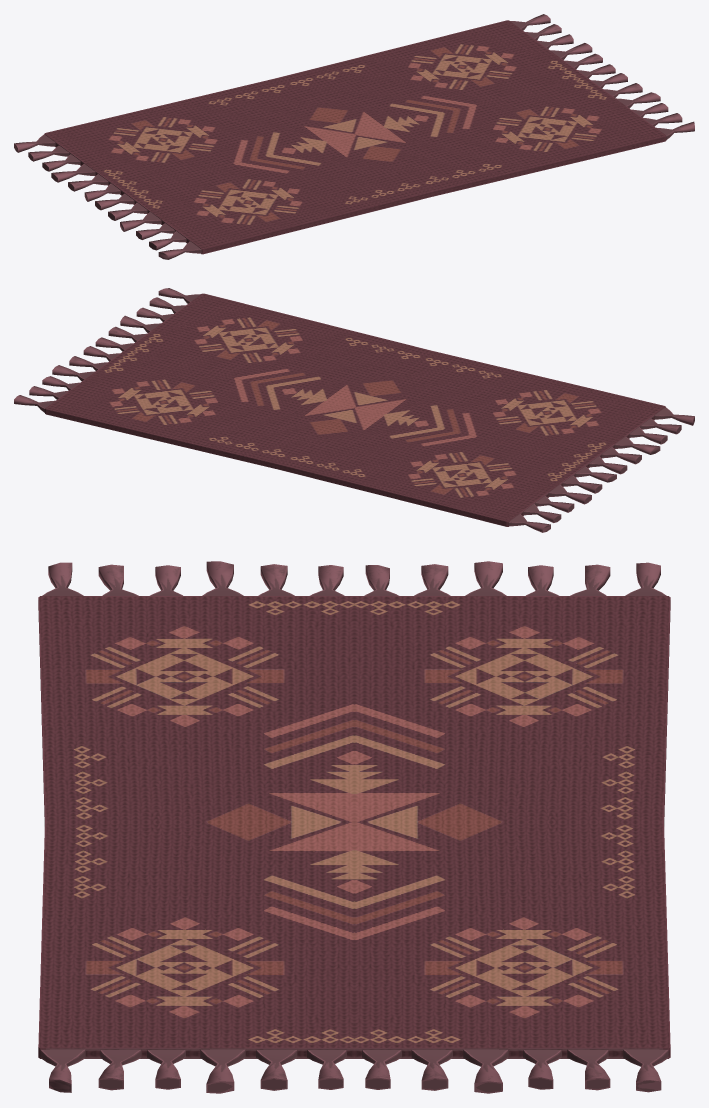
Rendered from AIR0110010.fbx.
3 views of the same model, one above another, from view 1: azimuth 30°, elevation 25°; view 2: azimuth 150°, elevation 25°; view 3: azimuth 270°, elevation 25° (orthographic). The views are drawn at different scales.
Visible parts, largest first — view 1: smAIR0110010; view 2: smAIR0110010; view 3: smAIR0110010.
Boxes of the visible parts, left/top/right/bottom form: smAIR0110010: left=14, top=14, right=694, bottom=259; smAIR0110010: left=14, top=288, right=694, bottom=532; smAIR0110010: left=38, top=561, right=670, bottom=1093.
Bounding box in the file's own units: 226 × 2.6 × 116.
Materials: 1 (1 with a texture image).
